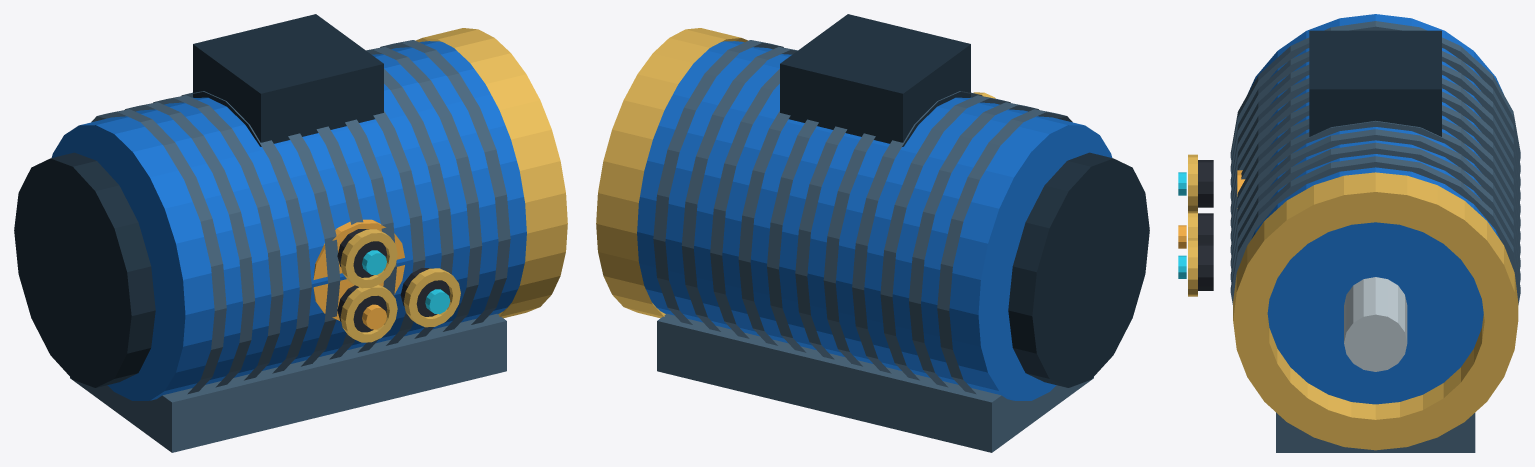
Rendered from 05_L82_TurntableServoGearbox.fbx.
3 views of the same model, side by side, from view 1: azimuth 30°, elevation 25°; view 2: azimuth 150°, elevation 25°; view 3: azimuth 270°, elevation 25° (orthographic). The views are drawn at different scales.
Parts seen in each view (by area): view 1: TurntableServoGearbox, TurntableServoGearbox_Part_0018; view 2: TurntableServoGearbox; view 3: TurntableServoGearbox.
Boxes of the visible parts, x1,y1,x2,y2 form: TurntableServoGearbox: (14, 14, 567, 452); TurntableServoGearbox_Part_0018: (313, 219, 404, 320); TurntableServoGearbox: (596, 14, 1149, 452); TurntableServoGearbox: (1178, 14, 1520, 452).
Bounding box in the file's own units: 126 × 82.44 × 81.62.
